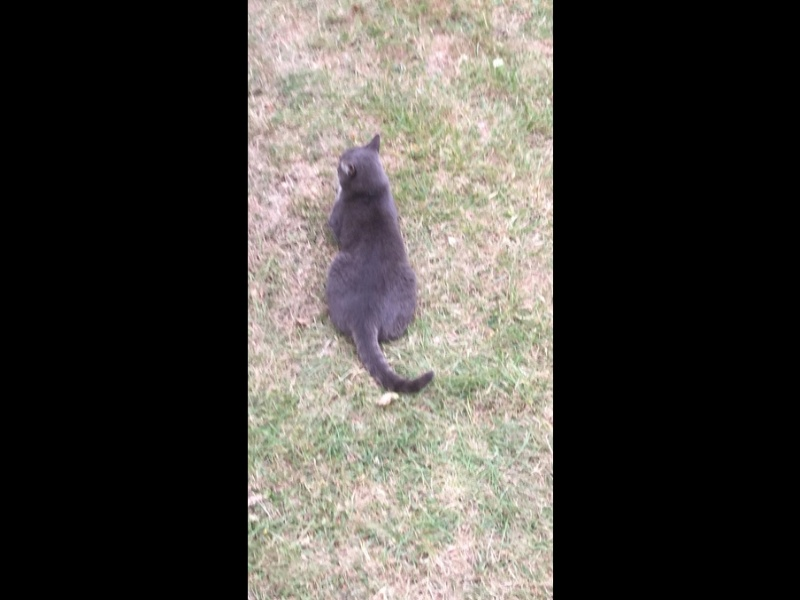cat: (319, 134, 436, 395)
